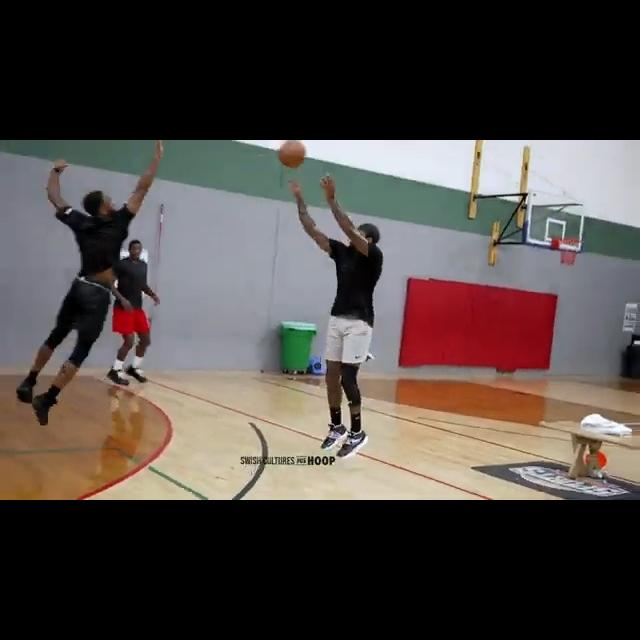basketball: (278, 141, 306, 169)
hoop: (556, 236, 583, 268)
